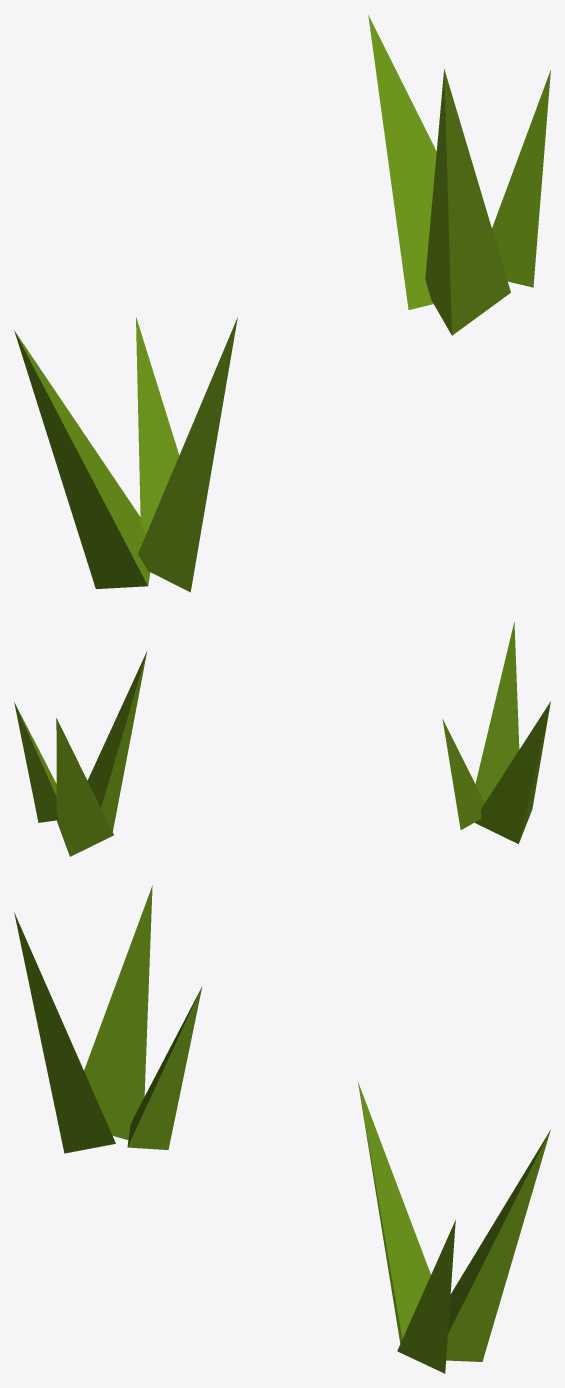
The model's file is Human-Grass1.fbx.
The picture shows the model from 3 angles, top to bottom: view 1: azimuth 30°, elevation 25°; view 2: azimuth 150°, elevation 25°; view 3: azimuth 270°, elevation 25°; orthographic projection. The views are drawn at different scales.
Parts seen in each view (by area): view 1: Human-Grass-1; view 2: Human-Grass-1; view 3: Human-Grass-1.
Boxes of the visible parts, bbox=[...] form: Human-Grass-1: bbox=[14, 15, 550, 592]; Human-Grass-1: bbox=[14, 622, 550, 856]; Human-Grass-1: bbox=[14, 885, 550, 1373].
Bounding box in the file's own units: 0.5863 × 0.4487 × 0.2381.
